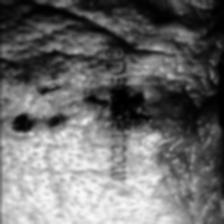Potentially Malignant Skin Tumors: (5, 68, 66, 144), (126, 82, 156, 140)
